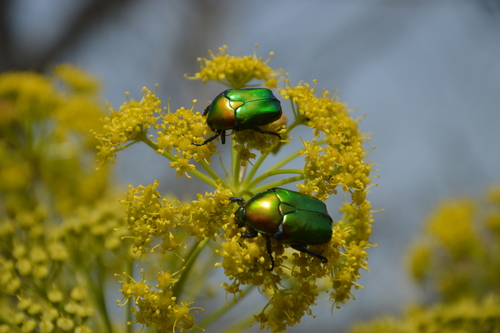Protaetia_cuprea_ignicollis: (222, 183, 336, 275), (187, 82, 287, 151)
